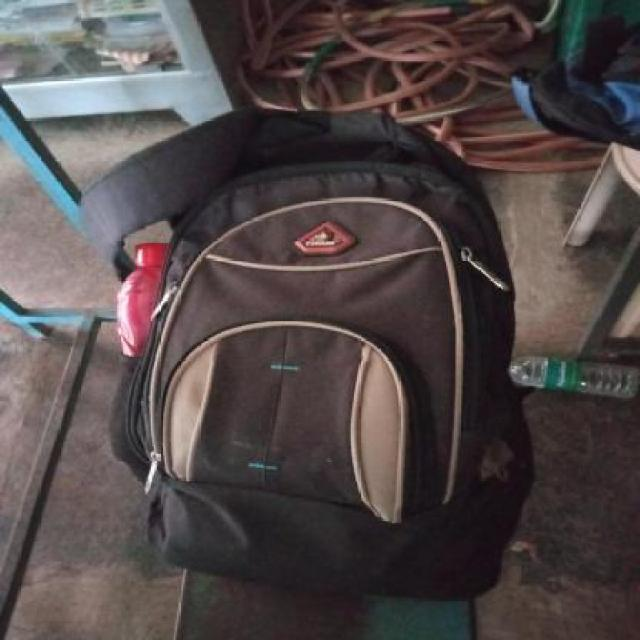backpack: (101, 102, 542, 606)
